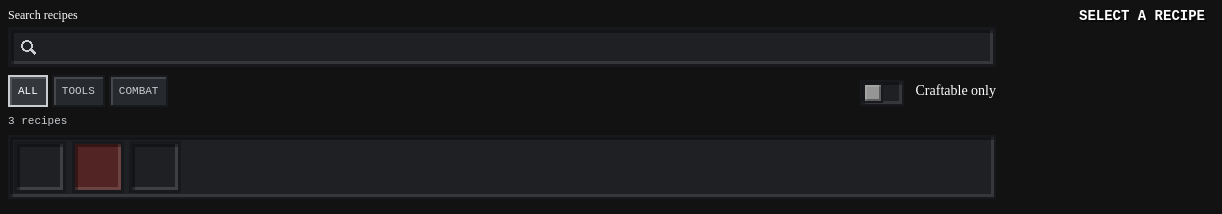
Test: RecipeBook › filters by search, category and craftable only
This screenshot has width=1222, height=214.
In the search field labelled "Search recipes": (502,47) [8, 27, 996, 67], type "iron"
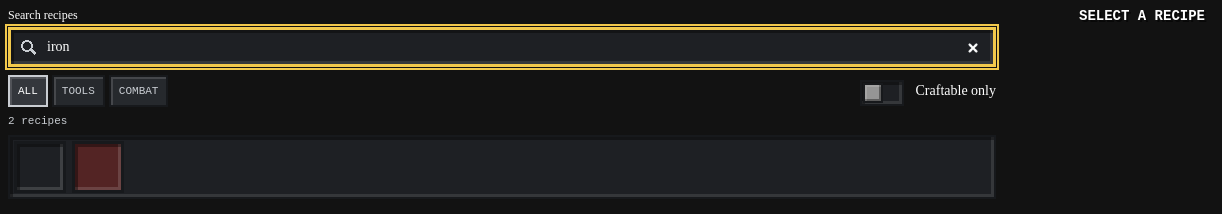
Check: the message reads "2 recipes", box [8, 115, 67, 127]
Click the switch labelled "Craftable only": (956,91) [916, 83, 996, 99]
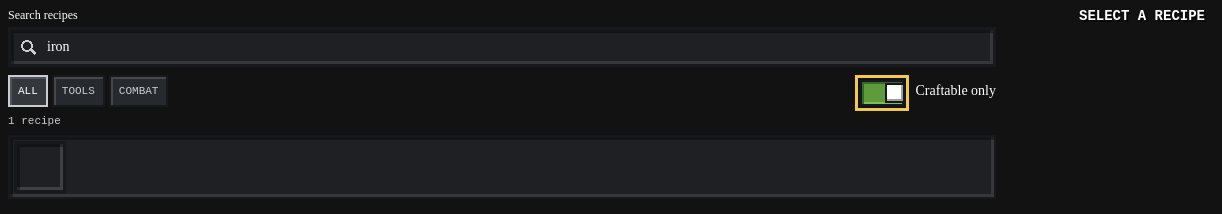
Check: the message reads "1 recipe", box [8, 115, 61, 127]
Click the button "Combat": (139,91) [109, 75, 168, 107]
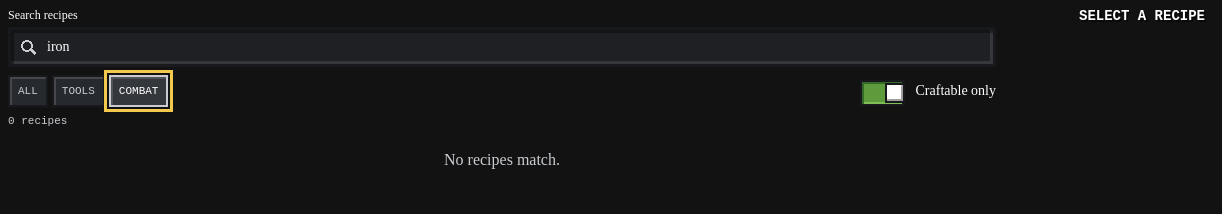
Check: the message reads "0 recipes", box [8, 115, 67, 127]
Check: the text "No recipes match." is shown, box [444, 151, 560, 168]
